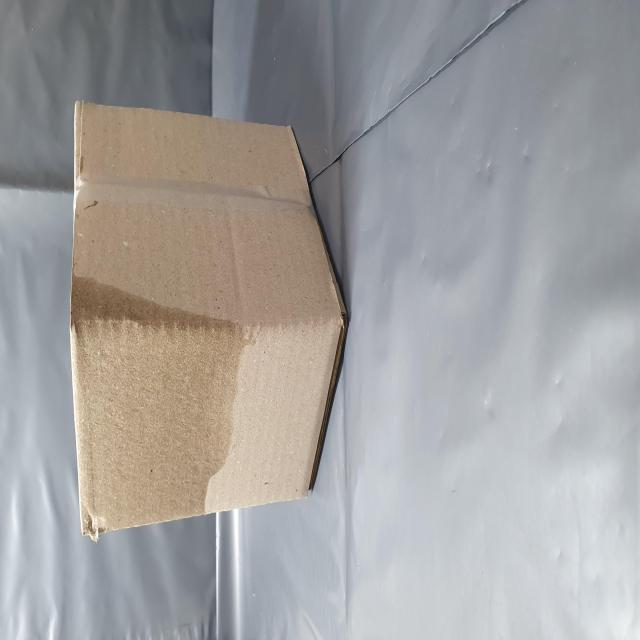wet: (54, 125, 208, 446)
